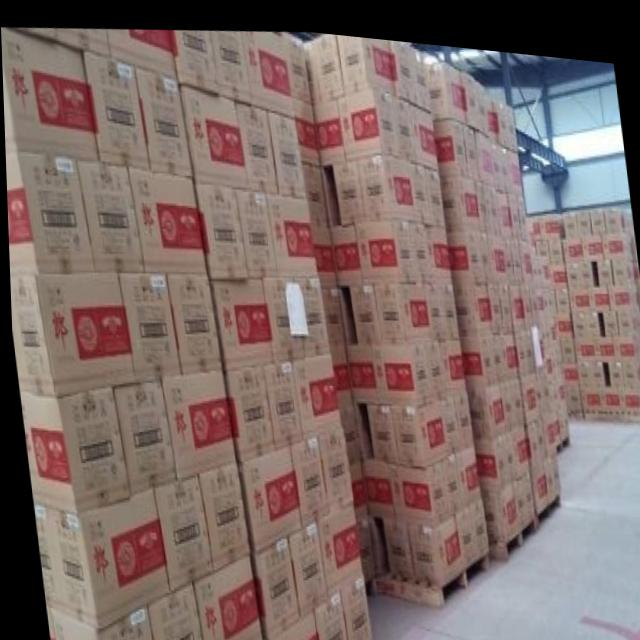box: (40, 489, 166, 628), (8, 270, 134, 395), (17, 386, 126, 513), (1, 27, 97, 159), (4, 149, 92, 275), (158, 366, 233, 478), (127, 165, 204, 268), (82, 50, 149, 167), (177, 79, 247, 184), (109, 377, 172, 493), (75, 159, 142, 268), (233, 438, 297, 546), (150, 471, 208, 589), (116, 270, 178, 379), (188, 550, 256, 640), (135, 62, 191, 171), (207, 272, 271, 366), (194, 456, 246, 570), (163, 268, 220, 371), (247, 528, 294, 636), (220, 359, 272, 456), (194, 182, 245, 274), (336, 78, 398, 153), (240, 25, 294, 111), (288, 346, 338, 434), (264, 188, 315, 271), (313, 494, 357, 590), (283, 513, 324, 612), (353, 209, 414, 275), (356, 144, 416, 211), (385, 450, 445, 517), (368, 333, 430, 397), (234, 96, 277, 188), (404, 504, 459, 573), (233, 182, 275, 272), (388, 390, 444, 457), (47, 604, 149, 640), (336, 27, 395, 87), (372, 275, 430, 335), (105, 26, 176, 75), (261, 271, 301, 357), (267, 104, 305, 192), (287, 430, 324, 520), (142, 580, 197, 640), (261, 355, 298, 443), (170, 26, 218, 90), (291, 271, 328, 353), (314, 419, 349, 505), (209, 25, 250, 98), (452, 484, 485, 557), (336, 564, 367, 640), (478, 467, 516, 529), (426, 54, 464, 114), (464, 373, 503, 431), (312, 91, 345, 158), (439, 166, 479, 221), (327, 215, 361, 278), (280, 25, 310, 96), (312, 26, 343, 93), (332, 151, 364, 215), (258, 603, 313, 640), (432, 108, 467, 165), (452, 275, 491, 326), (343, 335, 376, 395), (310, 582, 344, 640), (347, 275, 379, 335), (446, 221, 480, 277), (364, 395, 395, 455), (358, 451, 390, 509), (293, 91, 319, 160), (409, 95, 437, 159), (458, 326, 493, 377), (471, 427, 504, 480), (379, 509, 409, 566), (309, 216, 335, 280), (391, 87, 416, 153), (389, 32, 415, 95), (326, 333, 350, 400), (406, 211, 431, 275), (425, 215, 451, 275), (301, 156, 326, 218), (410, 37, 432, 104), (408, 151, 431, 215), (437, 330, 463, 386), (453, 435, 476, 497), (336, 397, 358, 460), (437, 444, 459, 506), (422, 155, 444, 215), (423, 330, 444, 391), (319, 280, 342, 335), (352, 511, 371, 575), (438, 386, 458, 446), (345, 453, 364, 515), (422, 275, 442, 331), (452, 380, 470, 440), (437, 275, 457, 328)
